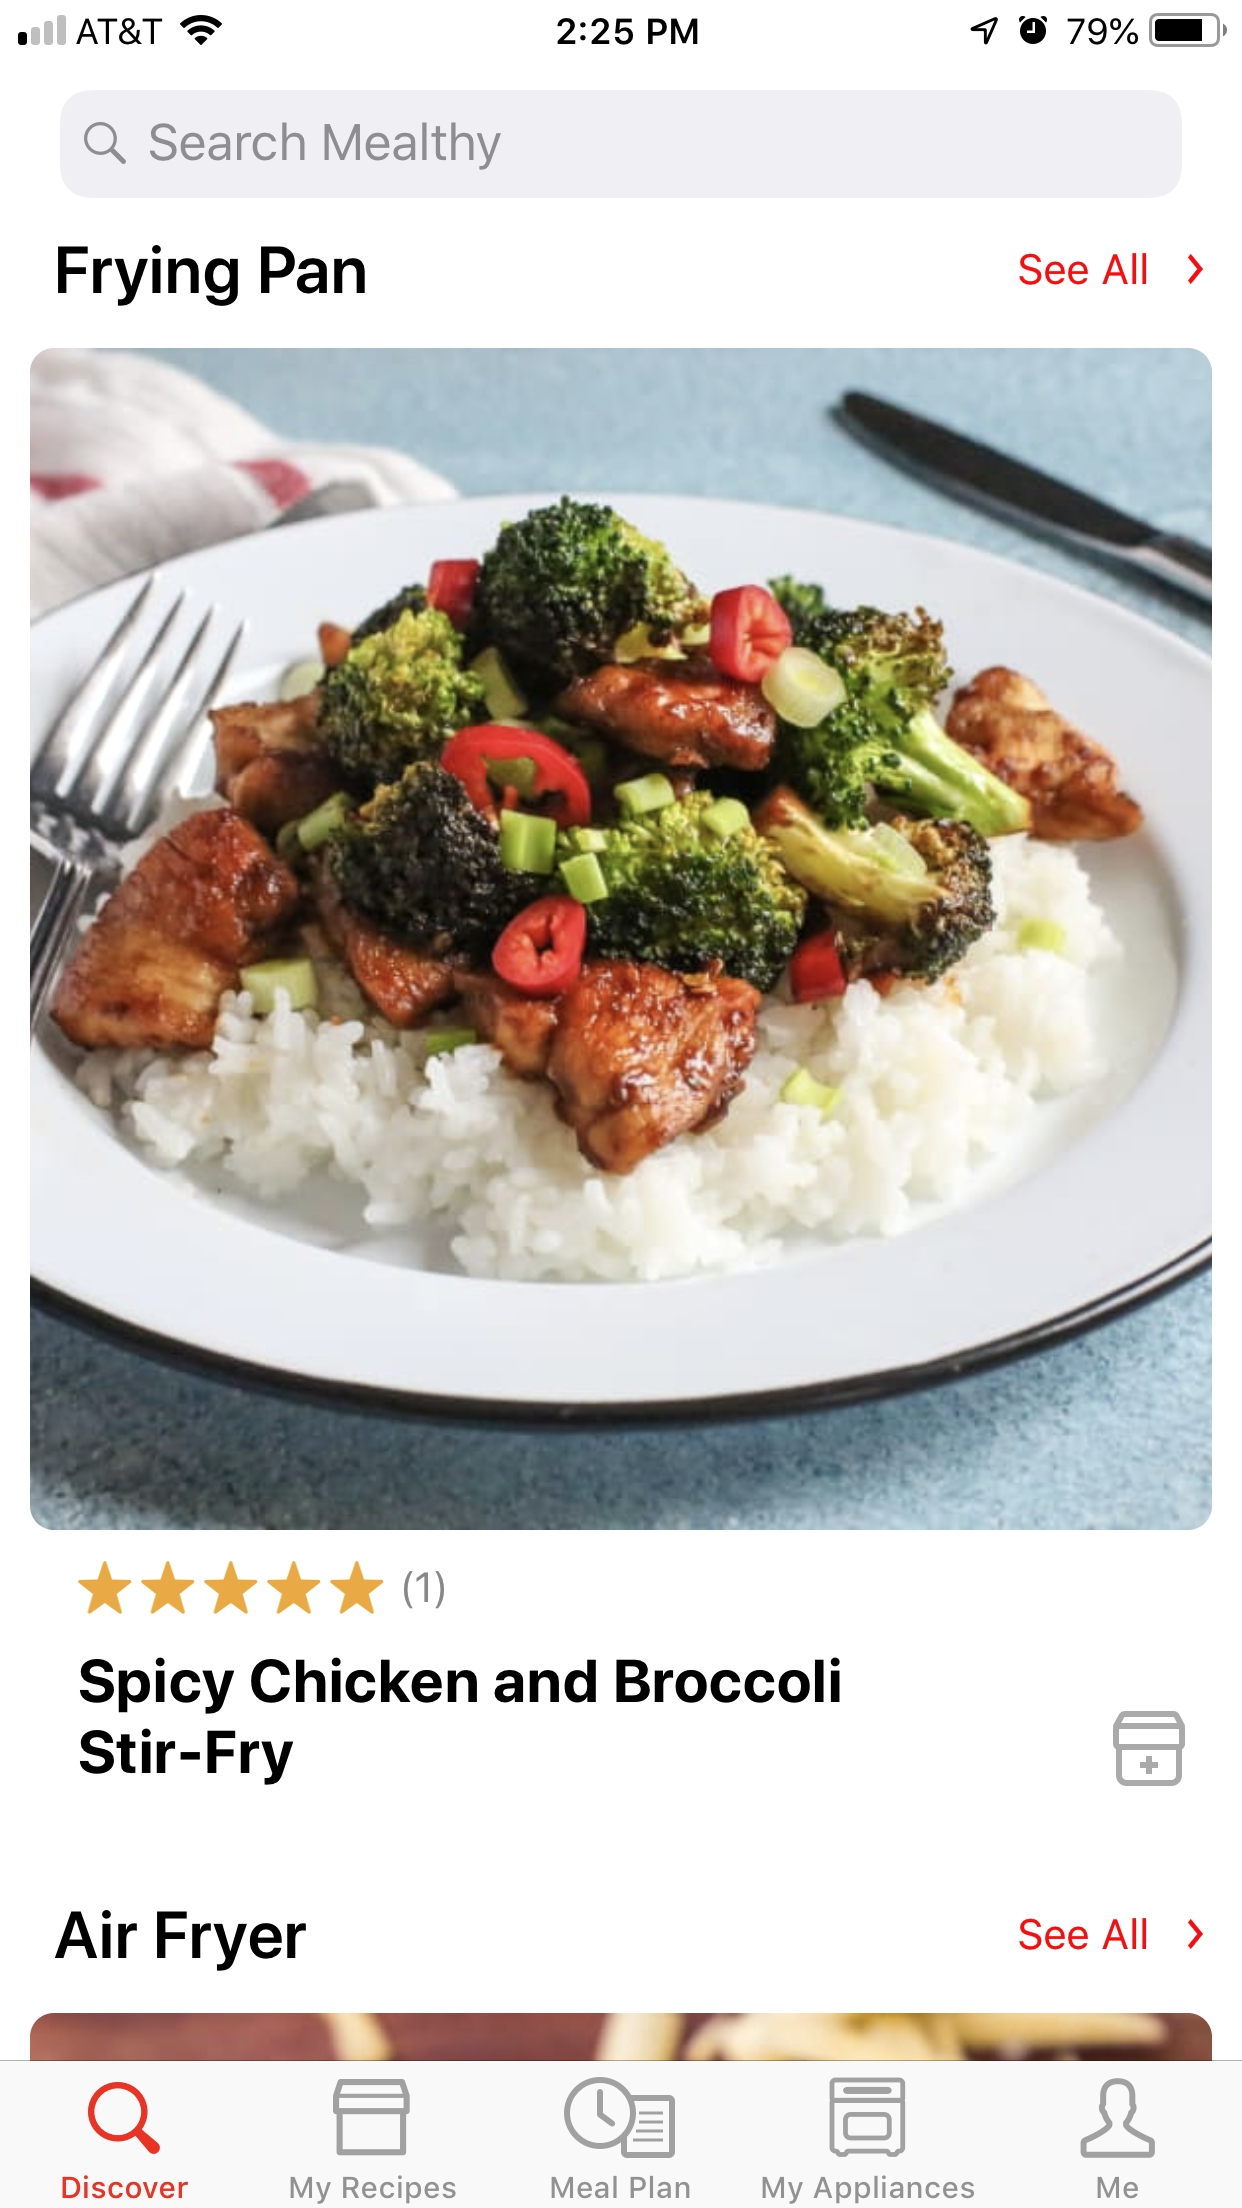EditText: (61, 89, 1181, 199)
Icon: (77, 1560, 385, 1615), (563, 2076, 676, 2159), (1080, 2078, 1156, 2159), (88, 2081, 162, 2155), (83, 121, 127, 165), (1186, 255, 1204, 285), (1187, 1918, 1204, 1950)
Image: (30, 347, 1213, 1532), (30, 2012, 1213, 2059), (828, 2078, 905, 2158), (334, 2078, 411, 2156), (1112, 1711, 1186, 1786)
Text: (80, 1658, 842, 1786), (59, 244, 367, 306), (152, 121, 502, 171), (55, 1909, 306, 1971), (761, 2175, 975, 2205), (290, 2175, 456, 2205), (1018, 1917, 1146, 1950), (1019, 253, 1146, 287), (550, 2175, 692, 2199), (62, 2175, 190, 2199), (403, 1570, 446, 1611), (1096, 2176, 1139, 2199)
UpperTaskBar: (2, 2, 1242, 49)
